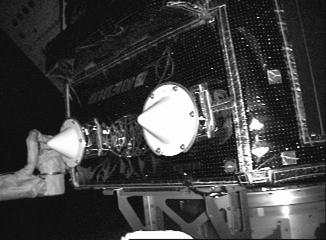antenna: (135, 80, 216, 158), (46, 117, 112, 169)
body: (43, 0, 326, 190)
solar: (0, 0, 76, 103)
